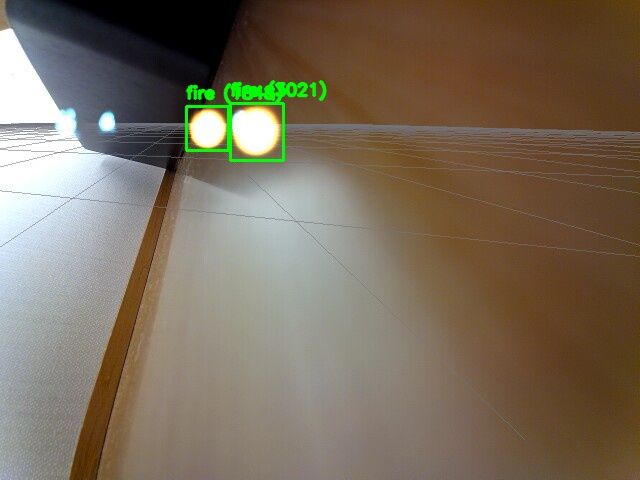fire: (230, 103, 283, 160), (186, 106, 228, 150)
